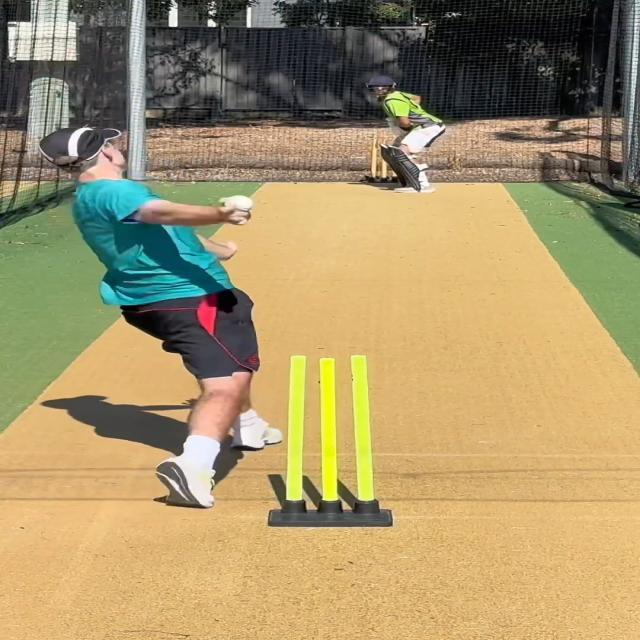stump: (265, 352, 397, 530)
